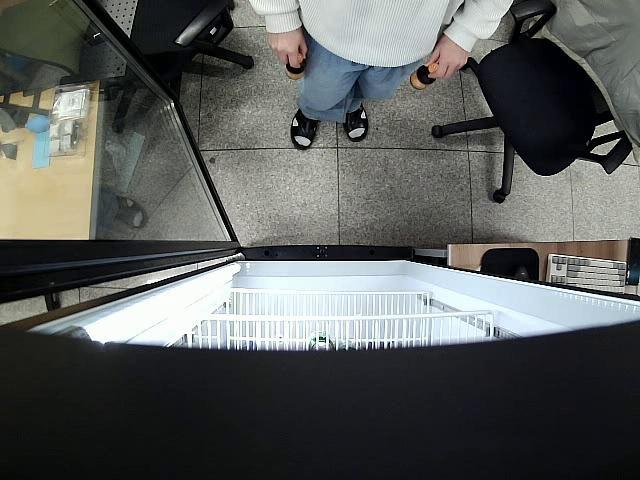17_vita500: (408, 60, 441, 90), (282, 50, 308, 81)
